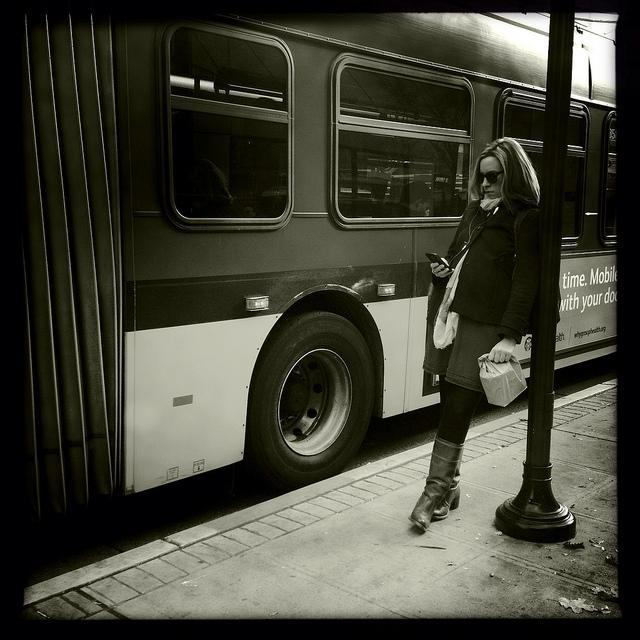bus: (1, 3, 617, 564)
